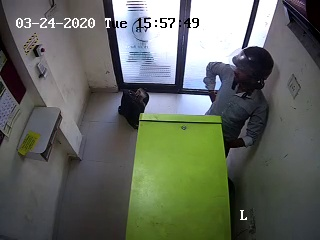helmet: (224, 46, 277, 92)
